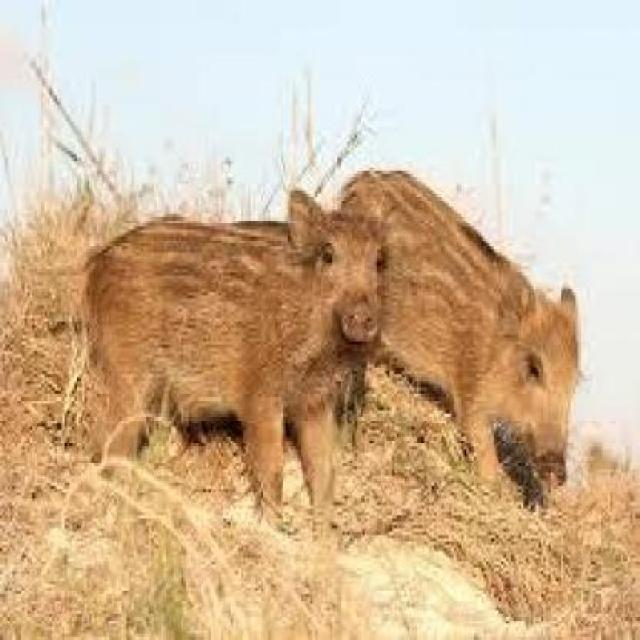wildboar: (66, 187, 406, 539), (314, 160, 581, 509)
